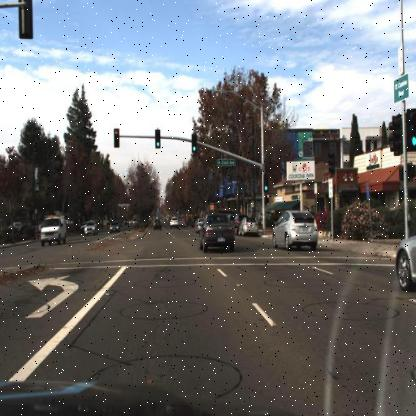car: (273, 209, 317, 252), (198, 211, 237, 253), (392, 228, 416, 292), (37, 212, 68, 249), (38, 212, 66, 248), (235, 211, 260, 239), (237, 215, 258, 238), (191, 214, 209, 237), (81, 218, 98, 241), (82, 217, 99, 237), (152, 216, 167, 234), (262, 173, 272, 192), (169, 214, 180, 231)
trafficLight-Green: (190, 130, 198, 161), (154, 125, 162, 150), (190, 139, 198, 156), (262, 180, 270, 195), (154, 138, 161, 153)
trafficLight-Red: (114, 127, 120, 145)
trafficLight-RedLeft: (112, 126, 119, 148)
